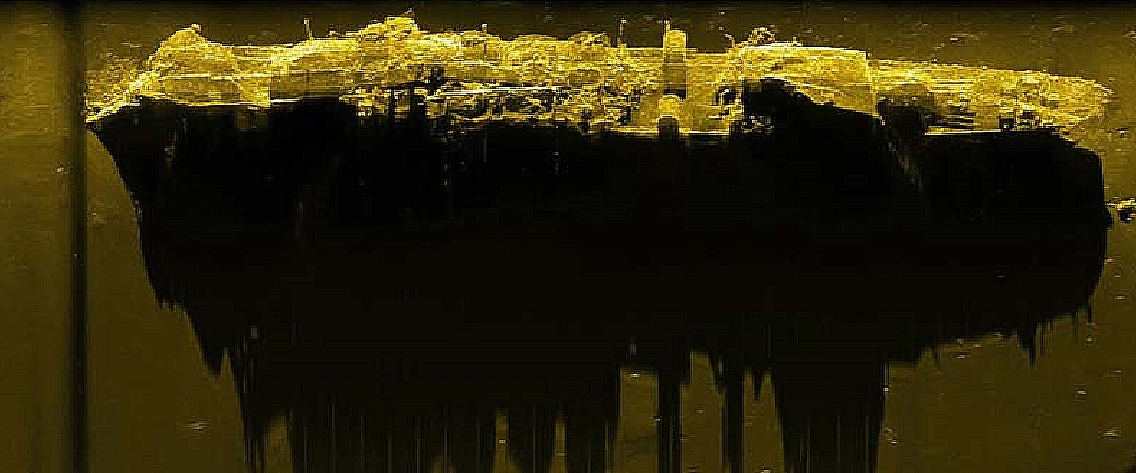ship: (81, 11, 1117, 146)
